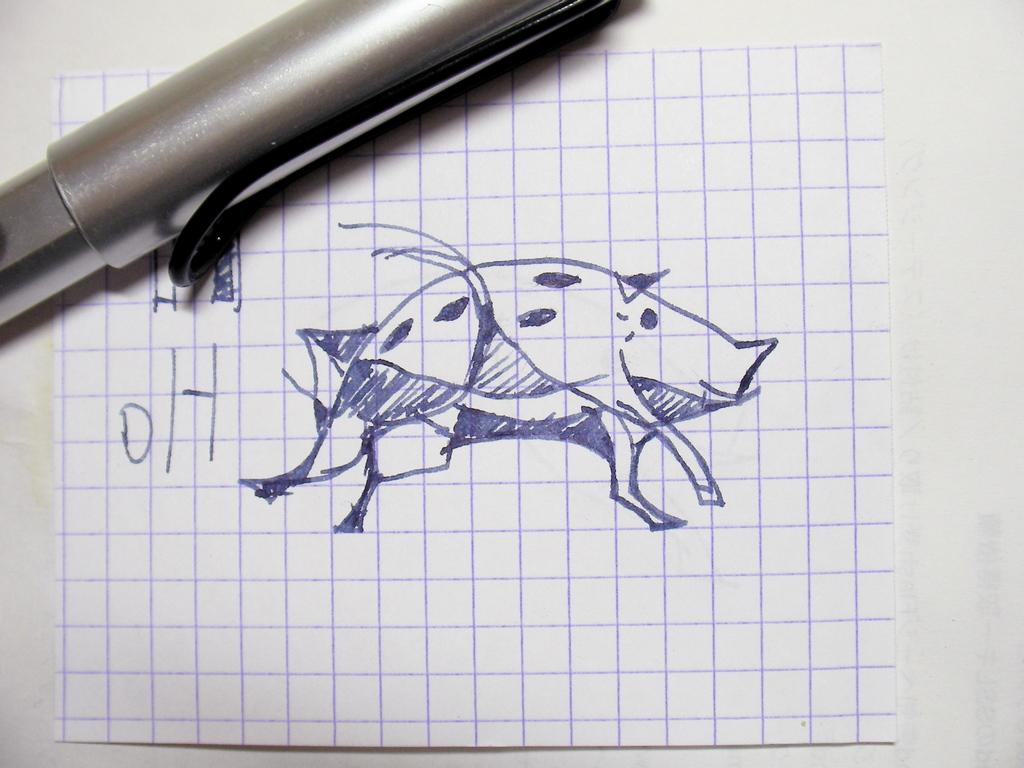pen: (0, 0, 619, 332)
